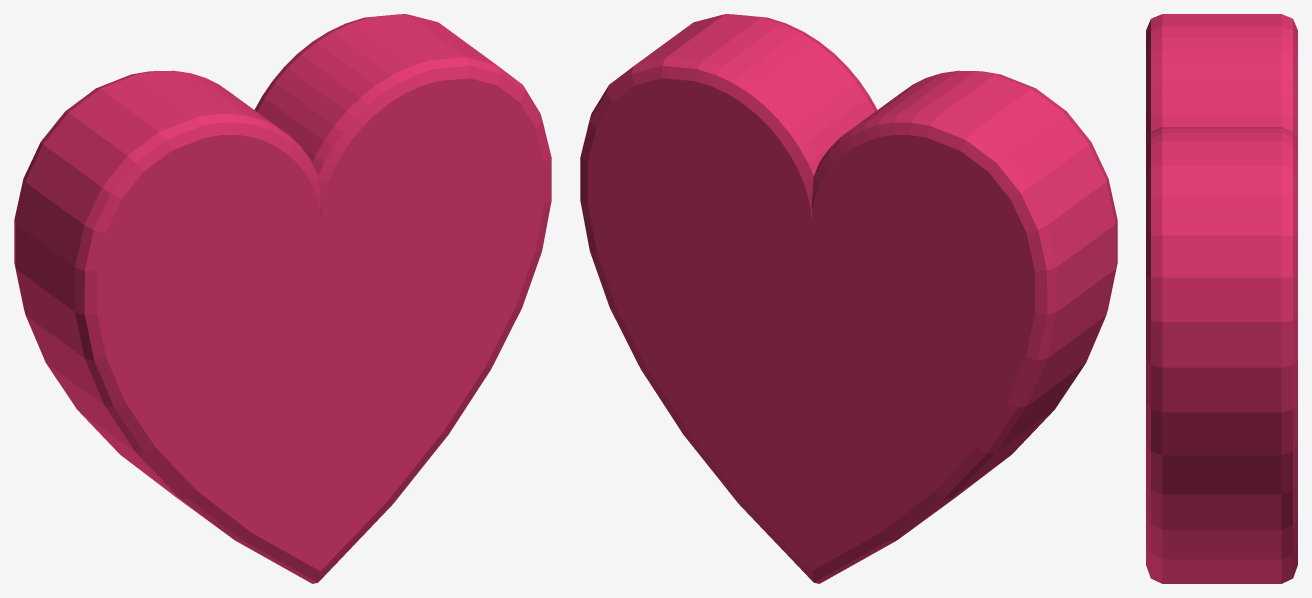
The model's file is heart.glb.
The picture shows the model from 3 angles, left to right: view 1: azimuth 30°, elevation 25°; view 2: azimuth 150°, elevation 25°; view 3: azimuth 270°, elevation 25°; orthographic projection.
Parts seen in each view (by area): view 1: heart; view 2: heart; view 3: heart.
Boxes of the visible parts, x1,y1,x2,y2 form: heart: (14, 14, 551, 583); heart: (580, 14, 1117, 583); heart: (1146, 14, 1297, 583).
Bounding box in the file's own units: 1 × 0.9956 × 0.2738.
